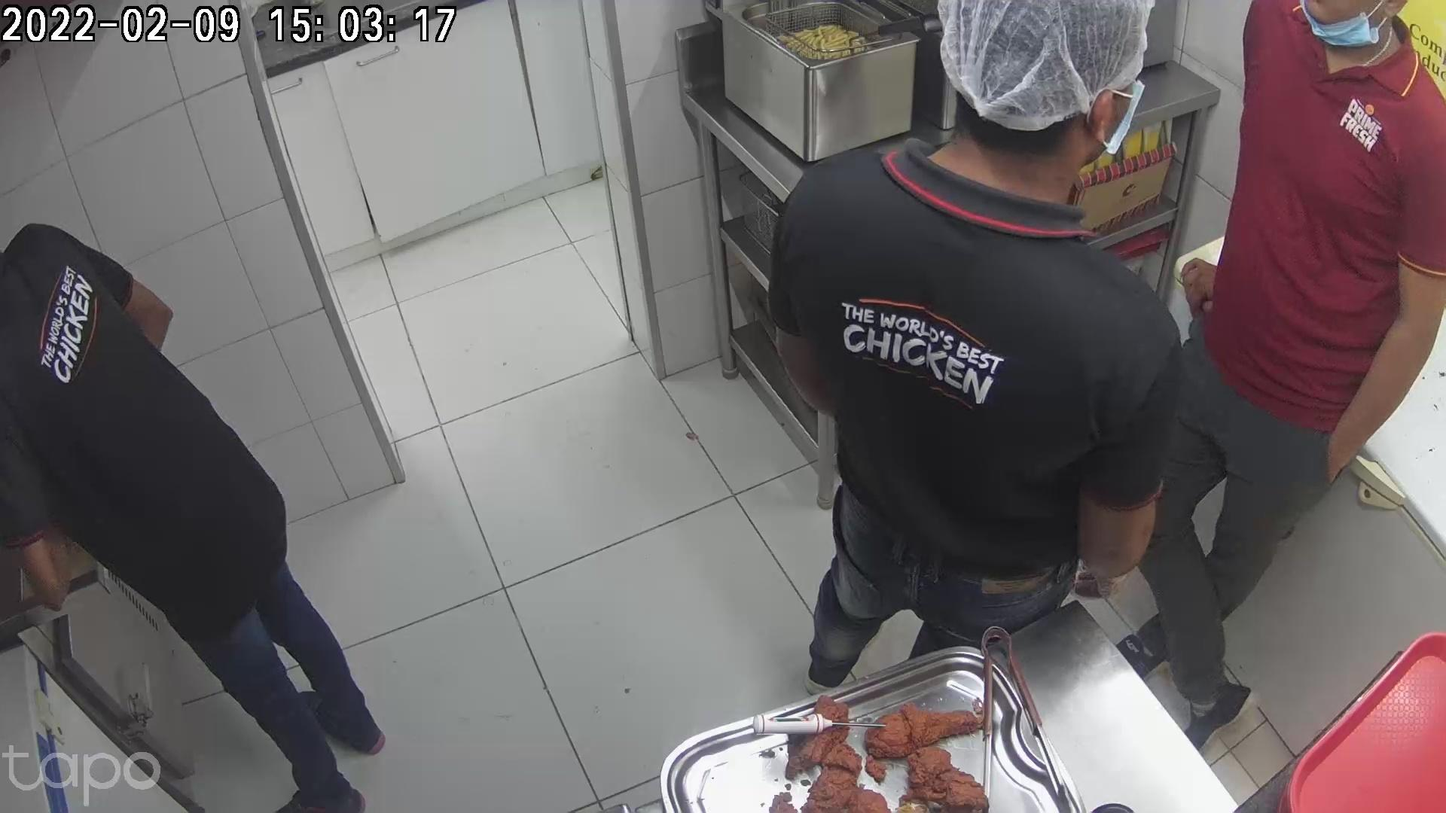no_gloves: (790, 479, 943, 573)
